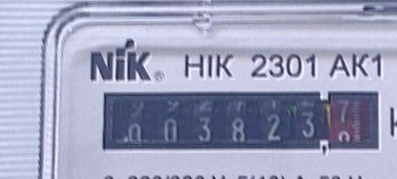0: (160, 113, 181, 140), (126, 118, 145, 141)
2: (265, 109, 285, 141)
3: (196, 111, 215, 141), (300, 108, 319, 138)
7: (337, 97, 353, 125)
8: (230, 113, 248, 141)
9: (128, 97, 146, 116)
screen: (96, 81, 385, 158)
